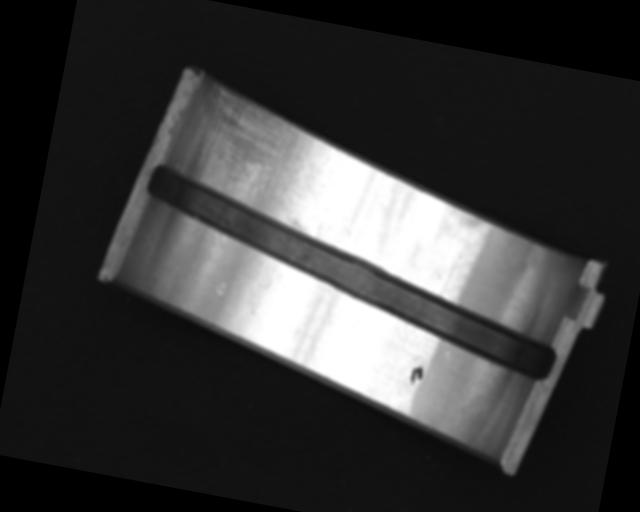blot: (407, 364, 426, 388)
bruise: (215, 280, 228, 296)
gap: (127, 166, 577, 383)
nick: (440, 251, 463, 302)
scratch: (181, 80, 334, 234)
